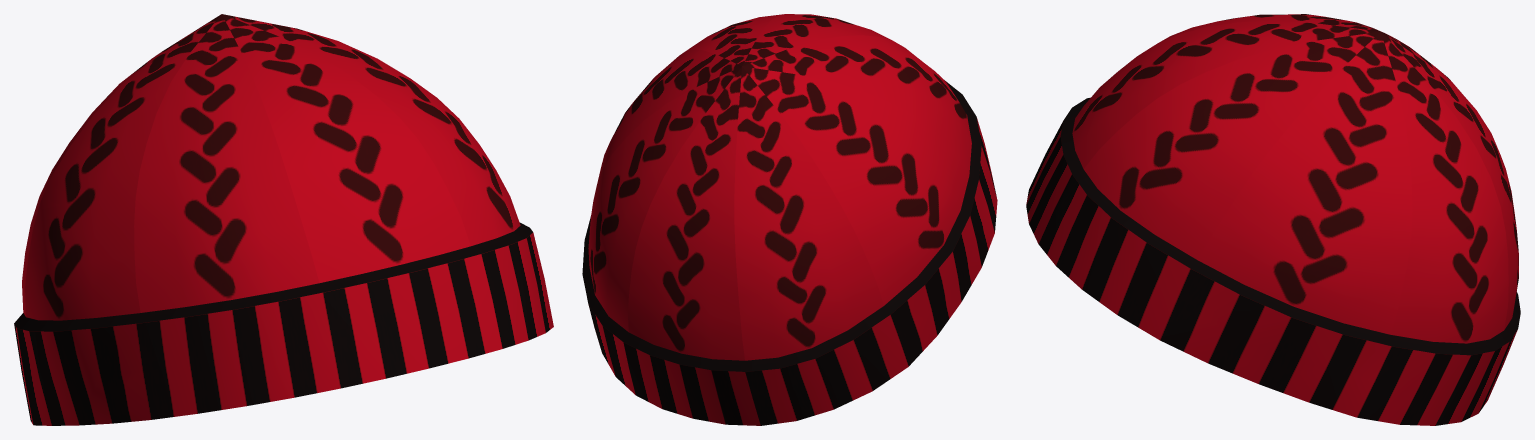
The model's file is hat_2.glb.
3 renders of one model, left to right at view 1: azimuth 30°, elevation 25°; view 2: azimuth 150°, elevation 25°; view 3: azimuth 270°, elevation 25°, orthographic. The views are drawn at different scales.
Visible parts, largest first — view 1: Beanie; view 2: Beanie; view 3: Beanie.
Boxes of the visible parts, bbox=[...] form: Beanie: bbox=[14, 14, 553, 425]; Beanie: bbox=[582, 14, 997, 425]; Beanie: bbox=[1026, 14, 1520, 425].
Bounding box in the file's own units: 62.02 × 55.36 × 70.02.
Materials: 1 (1 with a texture image).
